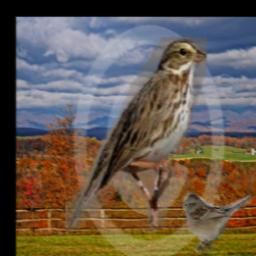Sparrow: (66, 38, 208, 233), (183, 191, 251, 252)
